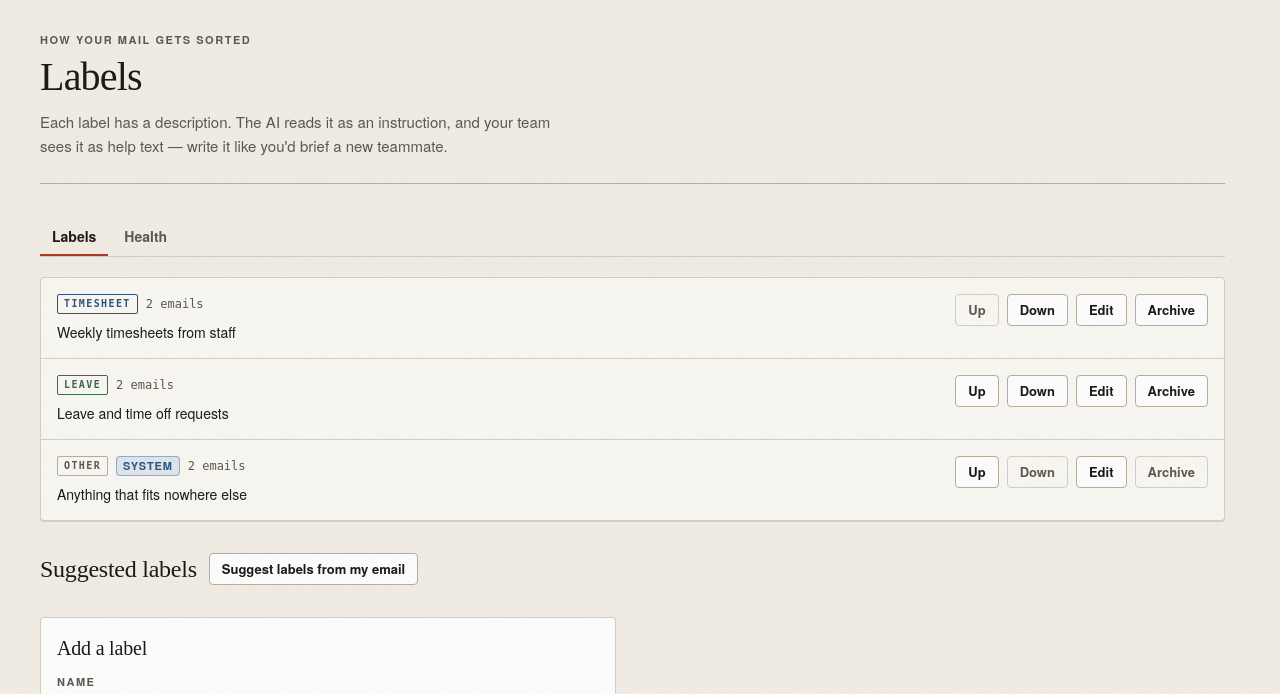
Scenario: Label health › explains an empty window
Click the tab "Health" at [146, 236], box [112,216,179,256]
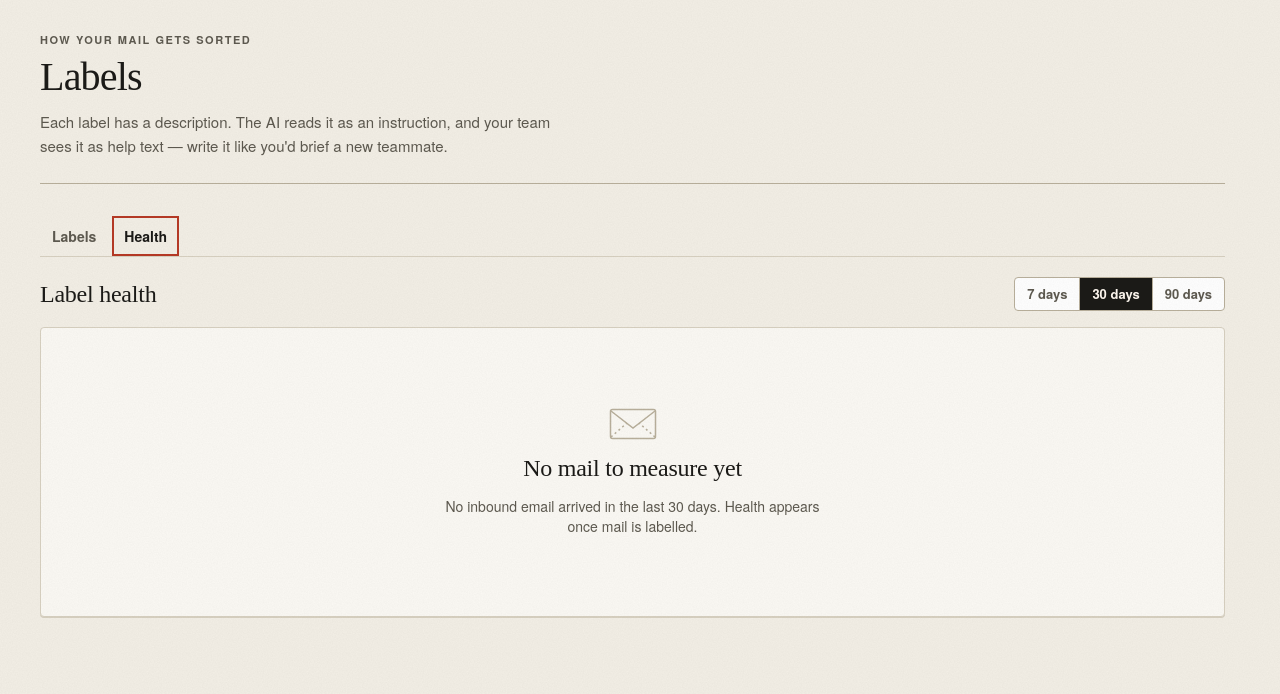
Expected: the text "No mail to measure yet" is shown, [523,452,742,484]
